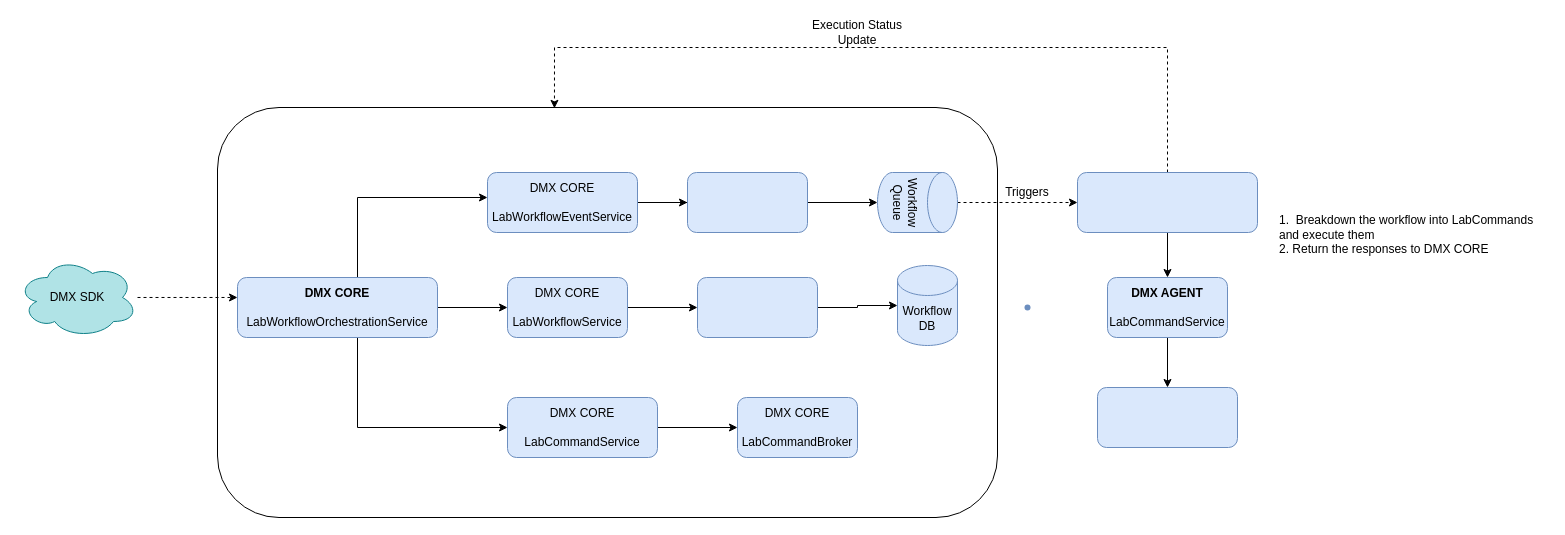
Some shapes in this 1565 by 535 pixel diagram are drawn without their labels. The shapes that lost their labels are listed below. From the top down, each one's centre as x and y in pixels, then its label:
At point (747, 202): "DMX CORE QueueBroker".
At point (1167, 202): "DMX AGENT LabWorkflowExecutionService".
At point (757, 307): "DMX CORE StorageBroker".
At point (1167, 417): "DMX AGENT ExecuteLabCommand()".
